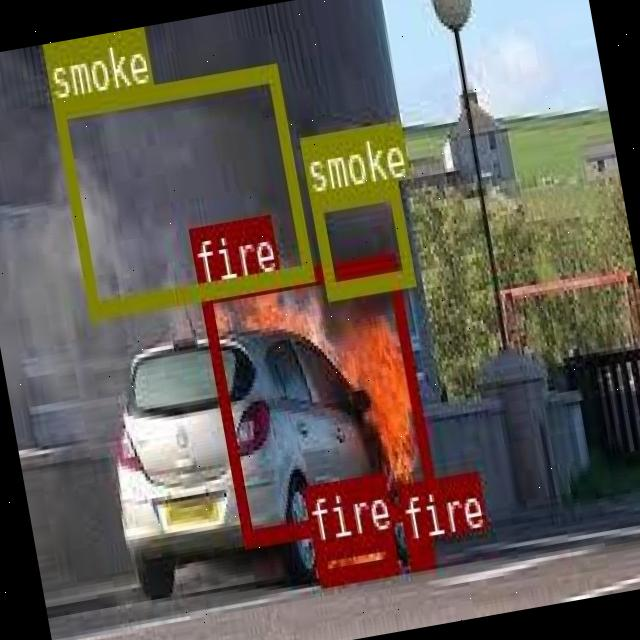fire: (196, 249, 438, 544), (312, 528, 396, 584), (404, 540, 433, 566)
smoke: (50, 62, 312, 317), (308, 178, 412, 297)
